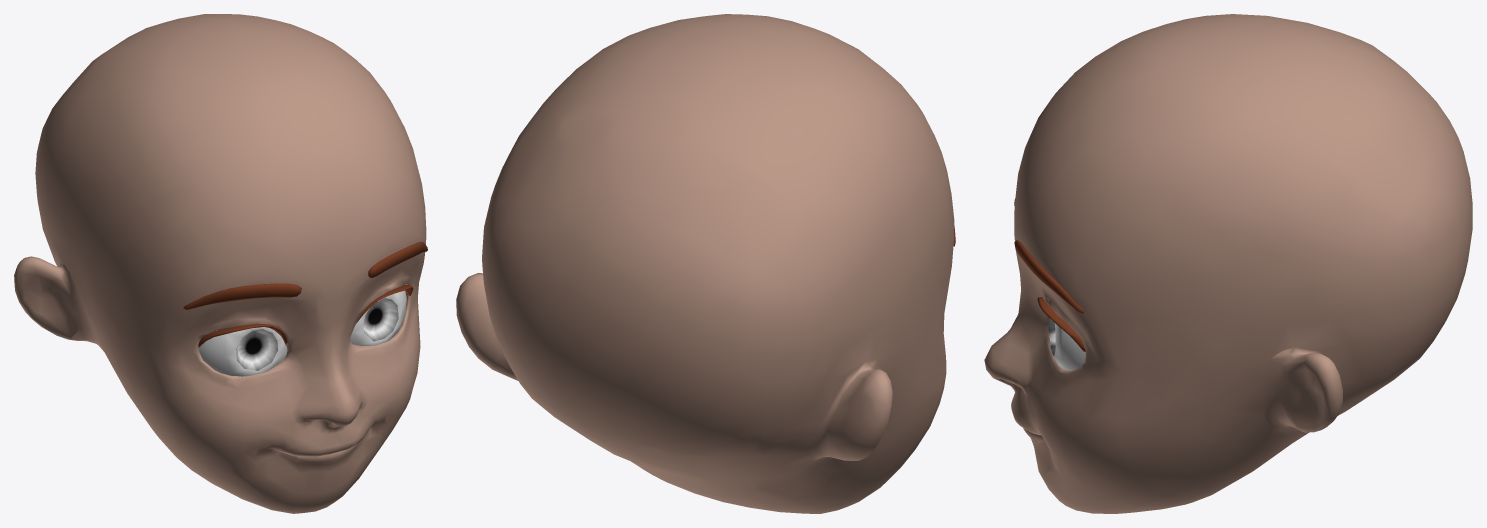
3 renders of one model, left to right at view 1: azimuth 30°, elevation 25°; view 2: azimuth 150°, elevation 25°; view 3: azimuth 270°, elevation 25°, orthographic. The views are drawn at different scales.
Parts seen in each view (by area): view 1: skin.001, eyes.001, brows.001, lashes.001; view 2: skin.001; view 3: skin.001, eyes.001, brows.001.
Boxes of the visible parts, x1,y1,x2,y2 form: skin.001: (14,14,426,513); eyes.001: (199,290,406,376); brows.001: (183,242,427,309); lashes.001: (198,285,413,347); skin.001: (456,14,954,513); skin.001: (984,14,1472,513); eyes.001: (1048,317,1085,370); brows.001: (1014,199,1084,313).
Size of the model in its own units: 1.79 by 2 by 1.9.
Materials: 9 (1 with a texture image).
